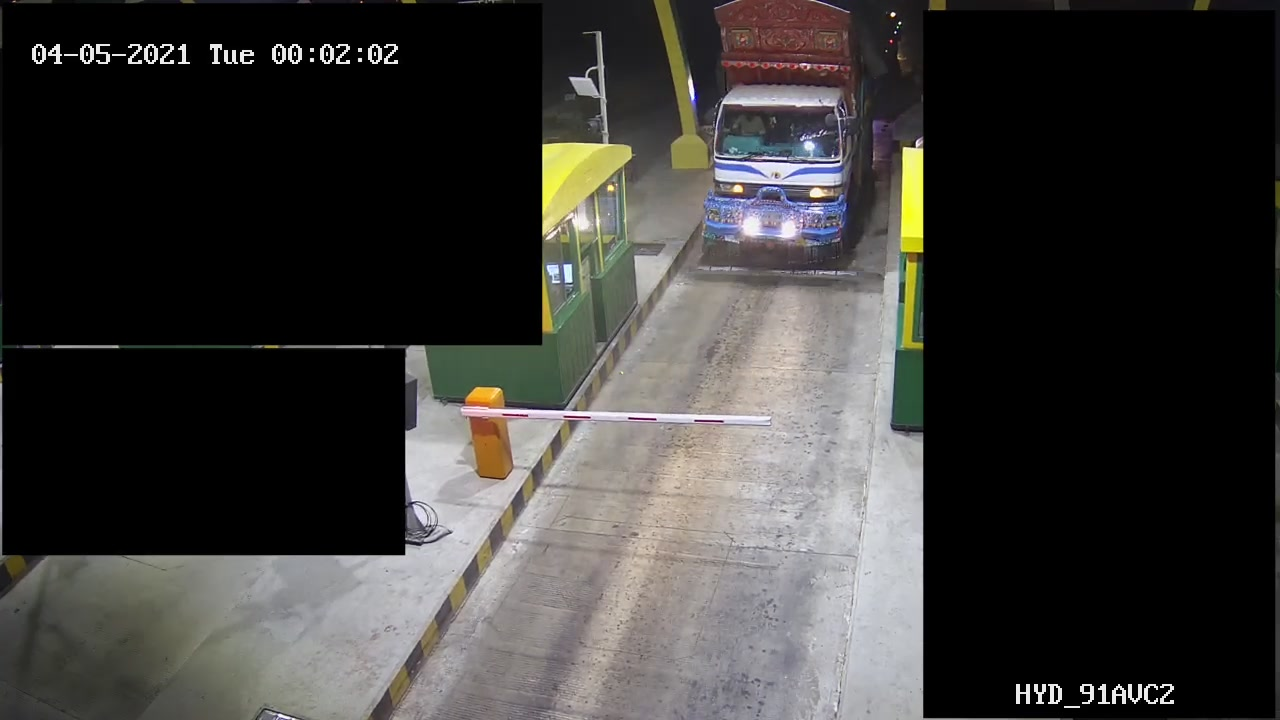F5: (694, 1, 878, 277)
